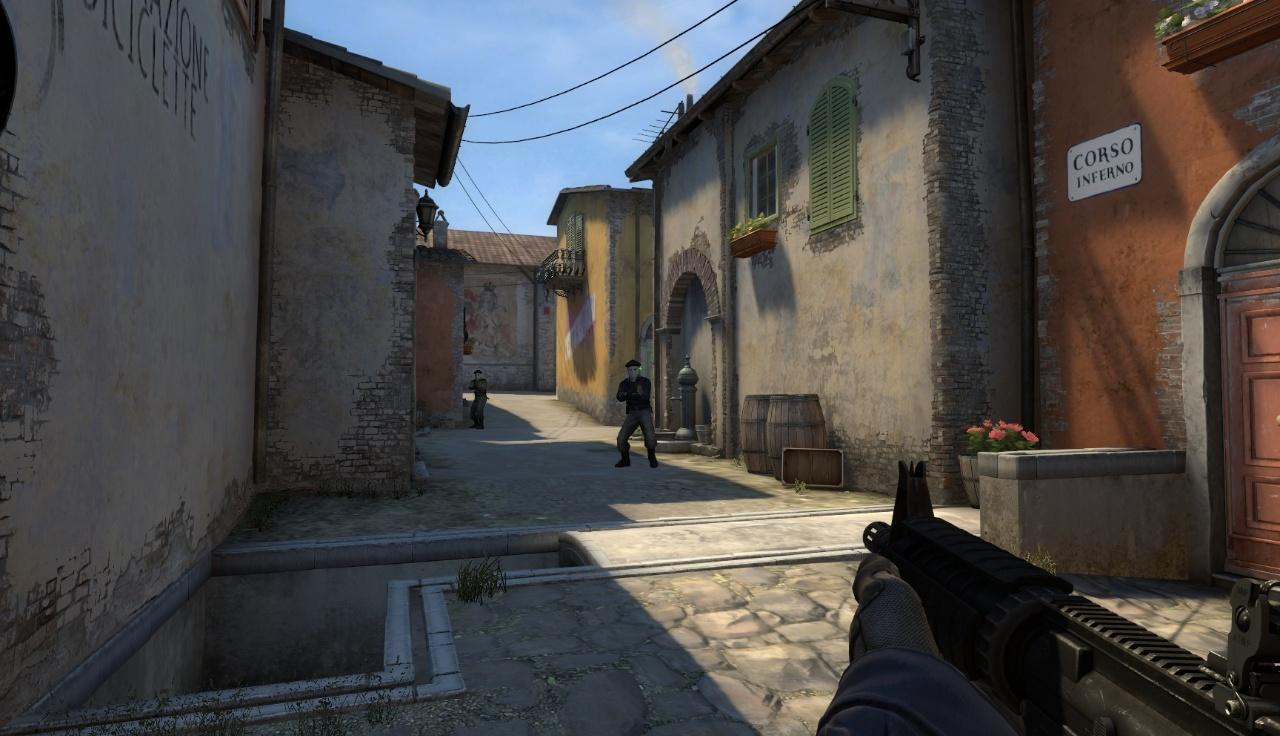rifle: (846, 453, 1280, 736)
tt: (618, 359, 656, 469), (470, 369, 487, 427)
tthead: (626, 361, 641, 381), (474, 370, 482, 381)
